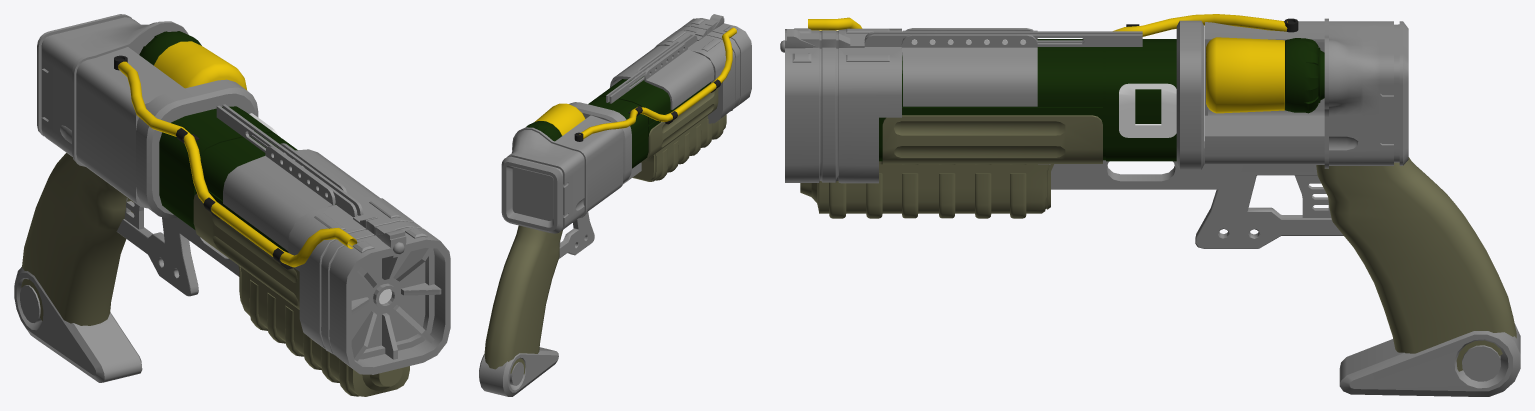
Rendered from Fo4LaserGun.fbx.
3 views of the same model, side by side, from view 1: azimuth 30°, elevation 25°; view 2: azimuth 150°, elevation 25°; view 3: azimuth 270°, elevation 25° (orthographic). The views are drawn at different scales.
Visible parts, largest first — view 1: Cube, Cube.004, Sphere.001, Cube.008, Sphere, Cube.009, Cylinder.002, Cube.001, Cube.006, BézierCurve, Cube.010, Fusion Cell (+5 smaller); view 2: Sphere, Cube.004, Cube, Cube.008, Sphere.001, Cube.009, Cube.001, Cylinder.002, Cube.010, BézierCurve, Fusion Cell, Cube.006 (+2 smaller); view 3: Cube.004, Cube, Cube.009, Sphere, Cube.001, Cube.010, Cube.008, Cylinder.002, Fusion Cell, Sphere.001, Cube.003, Cube.006 (+5 smaller).
Part boxes in pixels (x1,y1,x2,y2): Cube: (288, 197, 450, 374); Cube.004: (21, 153, 133, 325); Sphere.001: (76, 47, 184, 208); Cube.008: (223, 143, 379, 250); Sphere: (37, 14, 188, 166); Cube.009: (159, 106, 335, 252); Cylinder.002: (14, 267, 142, 382); Cube.001: (238, 265, 409, 396); Cube.006: (136, 79, 258, 218); BézierCurve: (118, 61, 357, 267); Cube.010: (193, 193, 299, 309); Fusion Cell: (139, 31, 247, 90); Sphere: (501, 127, 587, 233); Cube.004: (484, 225, 562, 374); Cube: (655, 14, 751, 123); Cube.008: (610, 41, 714, 109); Sphere.001: (555, 115, 622, 211); Cube.009: (588, 76, 710, 168); Cube.001: (632, 114, 726, 181); Cylinder.002: (479, 347, 558, 396); Cube.010: (641, 88, 718, 162); BézierCurve: (579, 27, 736, 138); Fusion Cell: (526, 103, 585, 141); Cube.006: (569, 102, 631, 182); Cube.004: (1316, 157, 1516, 371); Cube: (785, 28, 901, 183); Cube.009: (879, 39, 1176, 161); Sphere: (1324, 18, 1408, 168); Cube.001: (800, 161, 1053, 218); Cube.010: (882, 115, 1102, 163); Cube.008: (901, 28, 1037, 106); Cylinder.002: (1339, 323, 1520, 396); Fusion Cell: (1206, 37, 1324, 113); Sphere.001: (1205, 21, 1324, 164); Cube.003: (1195, 165, 1343, 248); Cube.006: (1176, 20, 1204, 169).
Bounding box in the file's own units: 89.44 × 248 × 460.
